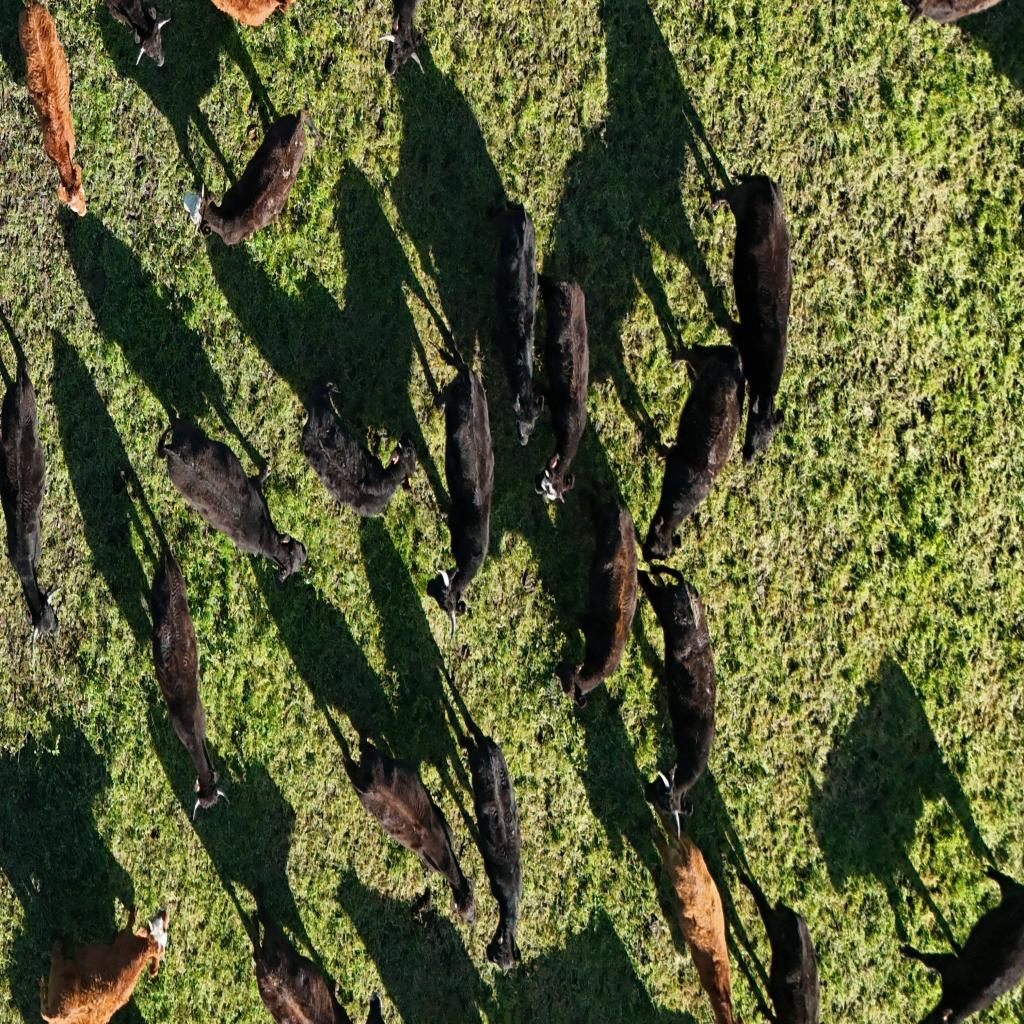cow: (158, 414, 314, 595), (638, 316, 747, 563), (708, 169, 795, 474), (341, 736, 472, 924), (184, 98, 332, 255), (147, 537, 229, 808), (552, 492, 638, 734), (897, 861, 1024, 1023), (0, 328, 62, 652), (10, 0, 92, 225), (641, 552, 712, 810), (429, 364, 495, 640), (455, 704, 523, 971), (650, 818, 735, 1024), (37, 900, 172, 1022), (246, 889, 352, 1022), (737, 861, 823, 1024), (305, 379, 404, 520), (536, 272, 592, 508), (493, 201, 544, 450), (104, 0, 173, 73), (381, 1, 429, 77)
